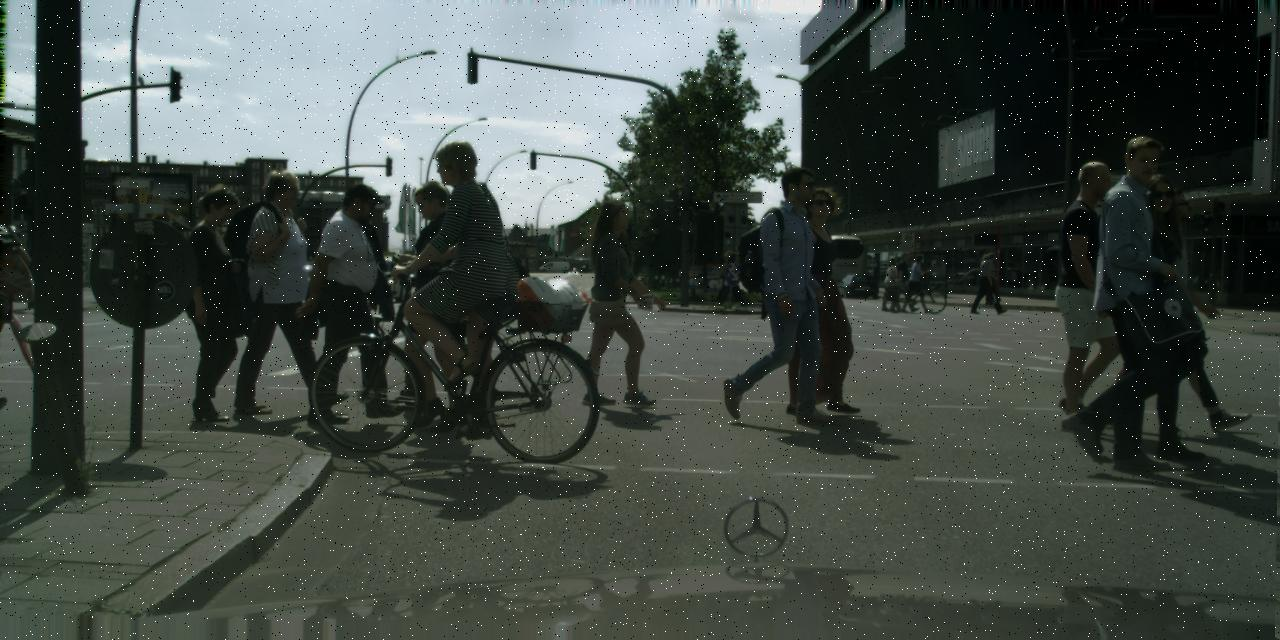ped: (1057, 136, 1192, 466), (1086, 173, 1202, 455), (411, 138, 518, 401), (733, 167, 837, 422), (1034, 162, 1138, 414), (381, 184, 480, 426), (237, 168, 335, 408), (1118, 185, 1216, 423), (310, 182, 407, 420), (165, 185, 261, 421), (776, 186, 869, 414), (393, 180, 481, 394), (574, 199, 659, 405), (976, 252, 1001, 314), (892, 252, 916, 312), (906, 254, 930, 312), (718, 249, 739, 303), (881, 257, 902, 310), (722, 252, 742, 306)
